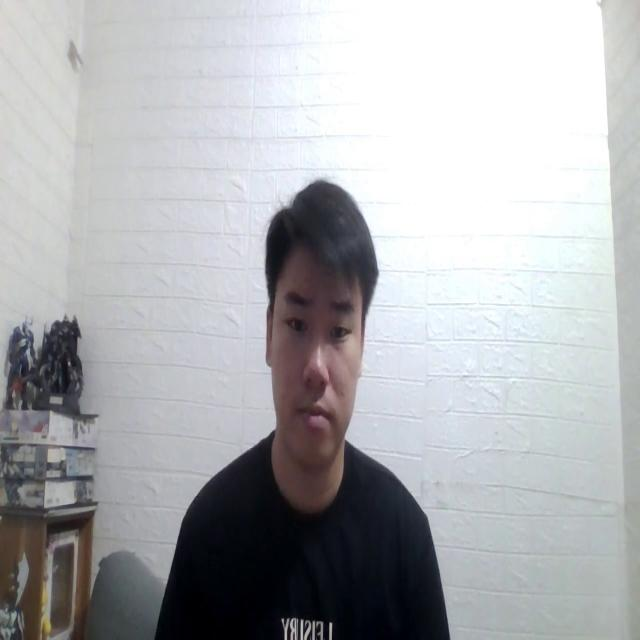student: (142, 173, 454, 640)
